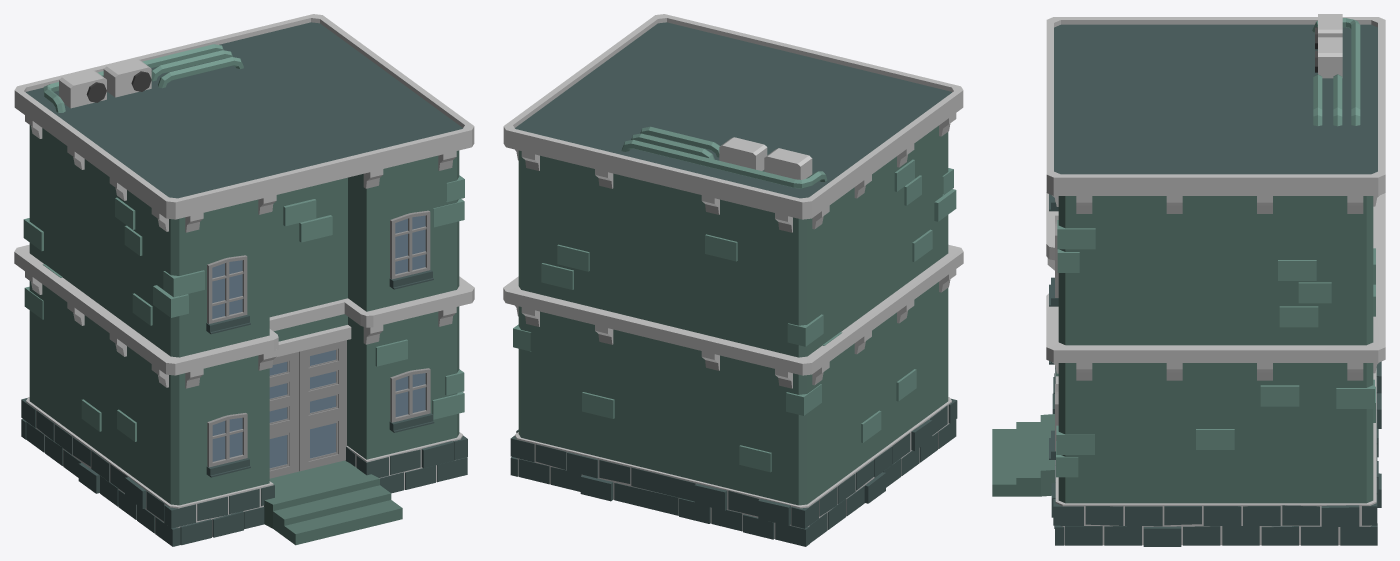
The model's file is 2story_center_mat.glb.
3 renders of one model, left to right at view 1: azimuth 30°, elevation 25°; view 2: azimuth 150°, elevation 25°; view 3: azimuth 270°, elevation 25°, orthographic. The views are drawn at different scales.
Parts seen in each view (by area): view 1: 2Story_Center_Mat; view 2: 2Story_Center_Mat; view 3: 2Story_Center_Mat.
Boxes of the visible parts, <box> form: 2Story_Center_Mat: <box>14,14,474,546</box>; 2Story_Center_Mat: <box>503,14,963,546</box>; 2Story_Center_Mat: <box>992,14,1385,546</box>.
Bounding box in the file's own units: 2.42 × 2.74 × 2.5.
